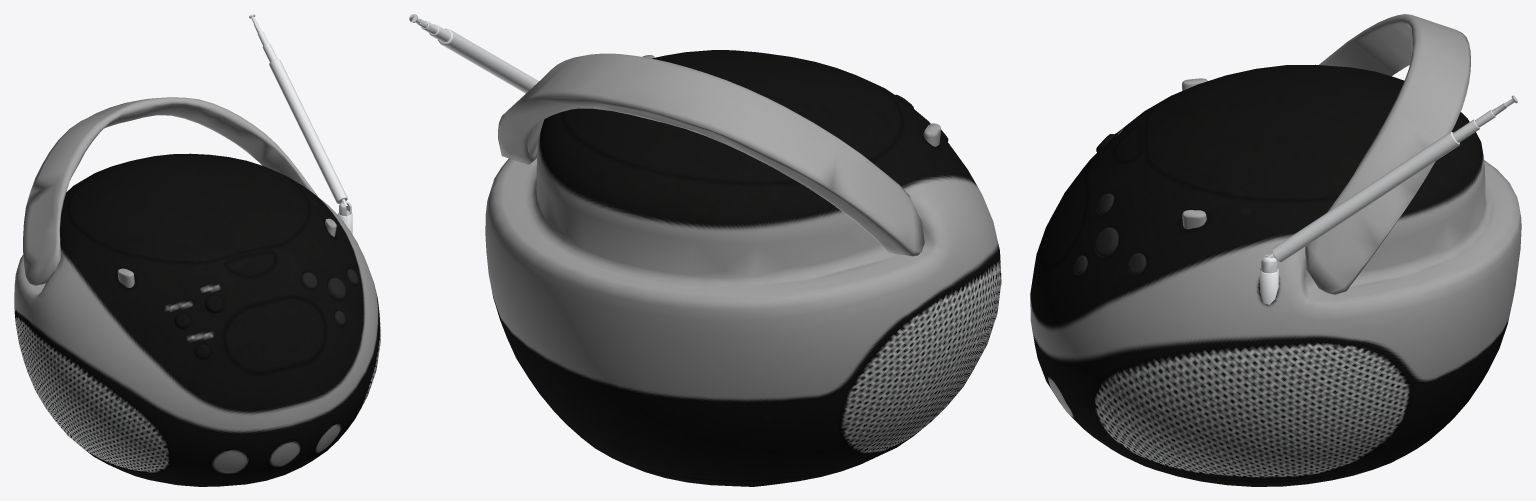
The model's file is BoomBox.fbx.
3 renders of one model, left to right at view 1: azimuth 30°, elevation 25°; view 2: azimuth 150°, elevation 25°; view 3: azimuth 270°, elevation 25°, orthographic. The views are drawn at different scales.
Visible parts, largest first — view 1: BoomBox; view 2: BoomBox; view 3: BoomBox.
Part boxes in pixels (bbox=[...]): BoomBox: bbox=[14, 14, 380, 486]; BoomBox: bbox=[409, 14, 1001, 486]; BoomBox: bbox=[1030, 14, 1521, 486].
Bounding box in the file's own units: 0.4923 × 0.4849 × 0.5.
Materials: 1 (1 with a texture image).
